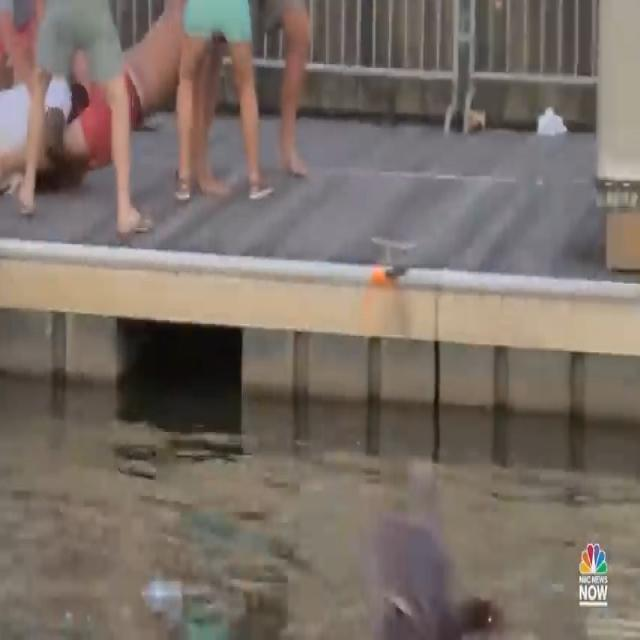fight: (0, 0, 318, 240)
